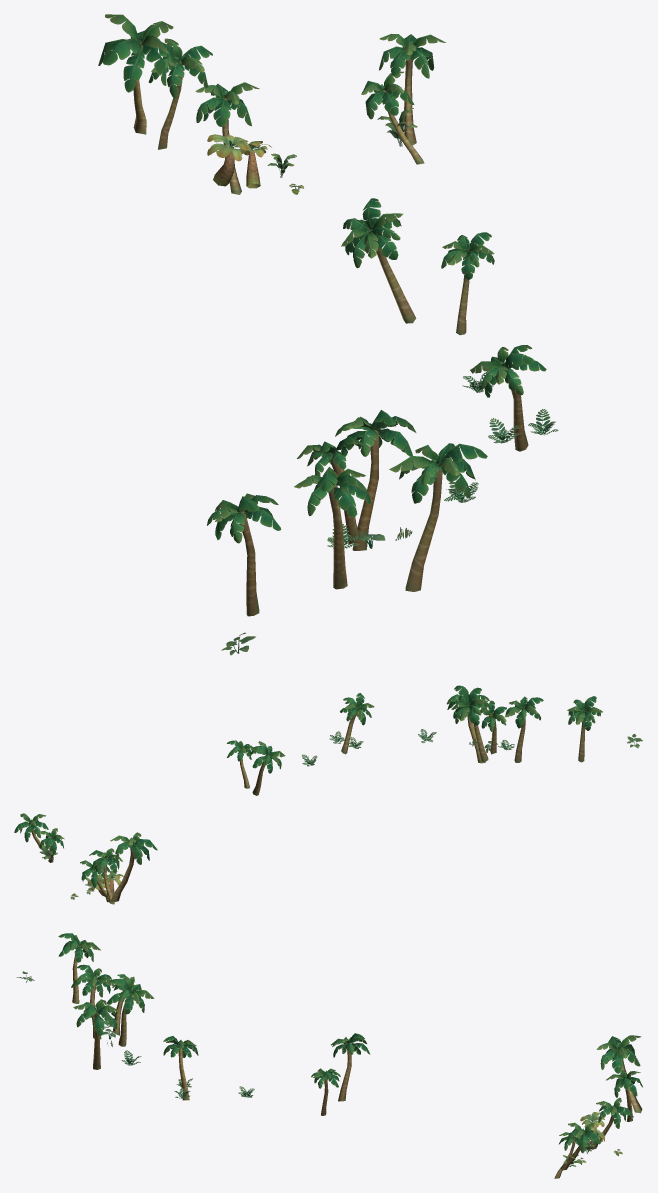
The model's file is pref_sm_beach_bk_pointmol_techyetree_L_lv2.fbx.
3 views of the same model, one above another, from view 1: azimuth 30°, elevation 25°; view 2: azimuth 150°, elevation 25°; view 3: azimuth 270°, elevation 25° (orthographic). The views are drawn at different scales.
Parts seen in each view (by area): view 1: pref_sm_beach_bk_pointmol_techyetree_L_lv2; view 2: pref_sm_beach_bk_pointmol_techyetree_L_lv2; view 3: pref_sm_beach_bk_pointmol_techyetree_L_lv2.
Part boxes in pixels (x1,y1,x2,y2): pref_sm_beach_bk_pointmol_techyetree_L_lv2: [98, 14, 558, 655]; pref_sm_beach_bk_pointmol_techyetree_L_lv2: [14, 685, 642, 904]; pref_sm_beach_bk_pointmol_techyetree_L_lv2: [16, 933, 642, 1178].
Bounding box in the file's own units: 45.72 × 10.66 × 63.16.
